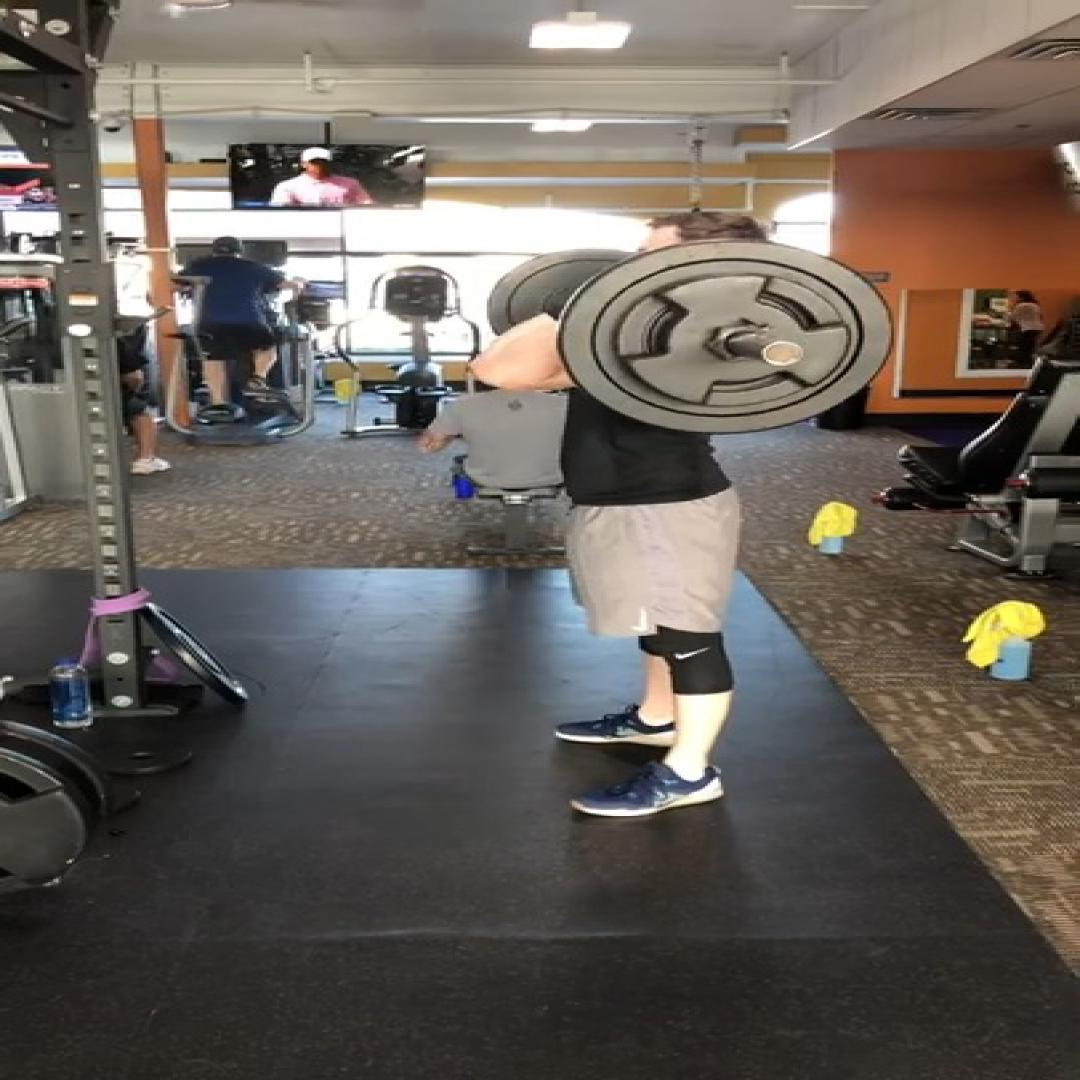Bar: (761, 342, 803, 366)
Barbell: (561, 241, 891, 434)
